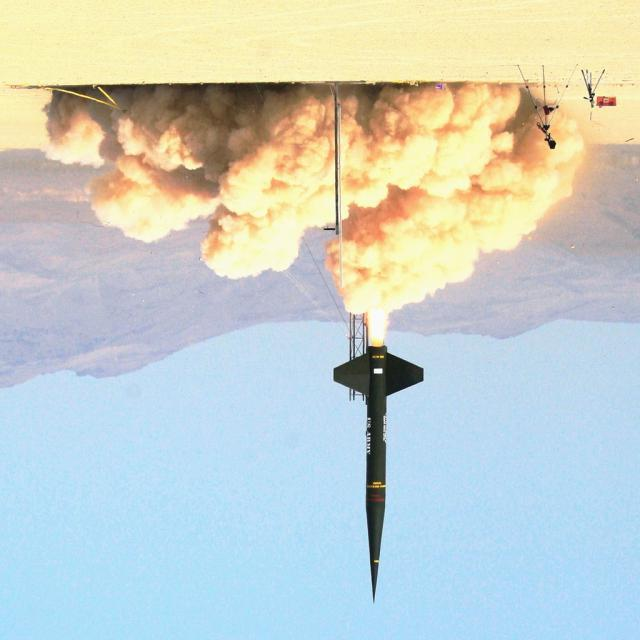missile: (331, 345, 426, 605), (362, 327, 394, 630)
